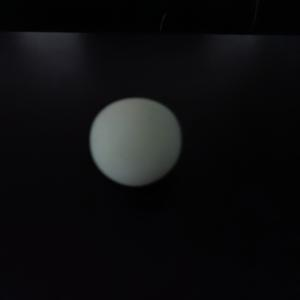Egg: (80, 88, 188, 191)
